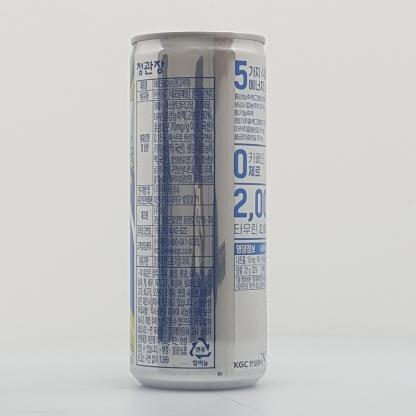---------: (130, 30, 266, 390)
